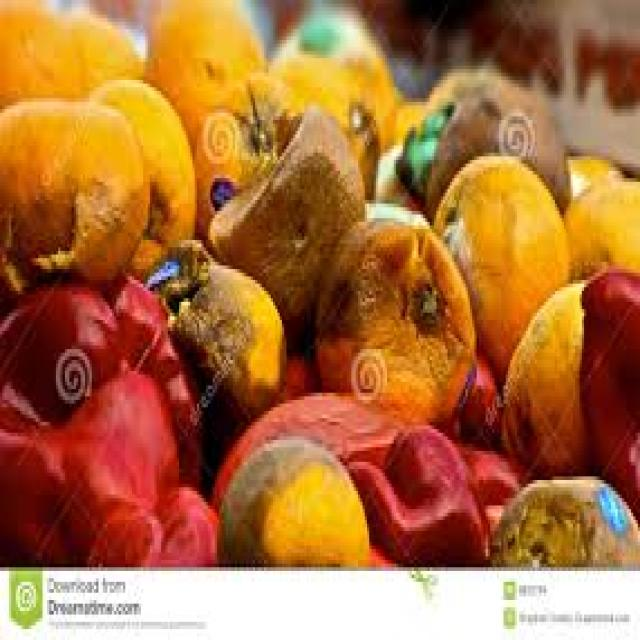organic waste: (0, 266, 199, 564), (206, 106, 362, 338), (311, 214, 472, 422), (141, 236, 282, 473), (432, 153, 573, 378), (0, 94, 148, 294), (338, 418, 488, 567), (85, 73, 195, 269), (426, 76, 568, 226), (499, 273, 598, 480), (217, 433, 369, 567), (141, 0, 264, 145), (192, 62, 296, 225), (577, 269, 638, 524), (486, 469, 638, 567), (275, 51, 376, 196), (85, 484, 224, 564), (0, 0, 85, 105), (559, 174, 638, 284), (436, 334, 497, 444), (72, 11, 143, 91), (394, 98, 447, 186), (562, 149, 624, 204), (425, 62, 497, 105), (374, 138, 418, 207), (275, 331, 316, 393), (376, 54, 396, 142), (385, 102, 427, 142)
